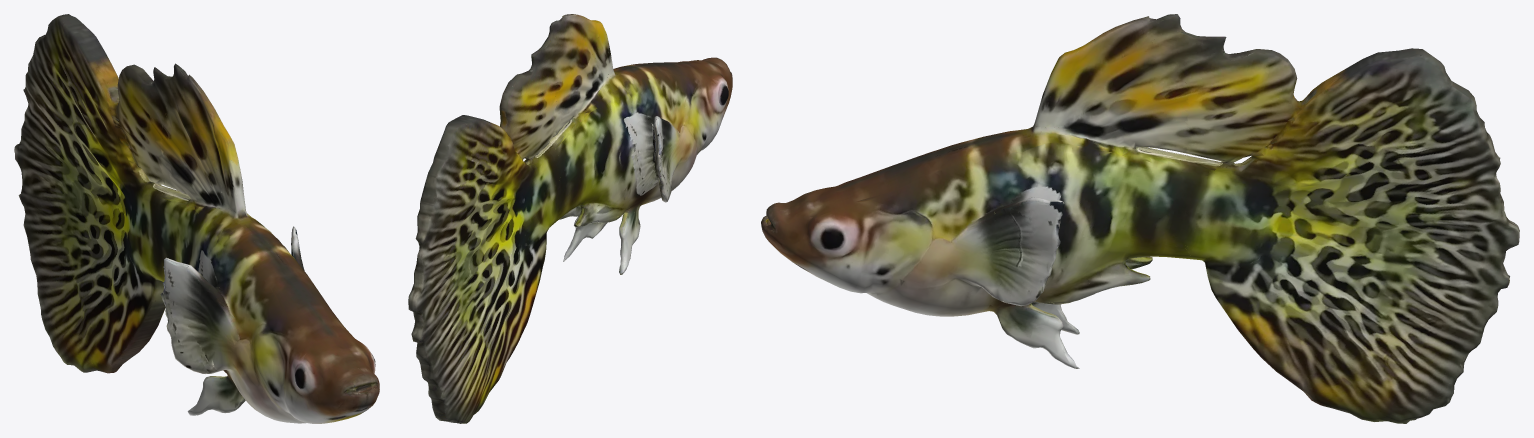
Rendered from strain-yellow_tiger.glb.
The picture shows the model from 3 angles, left to right: view 1: azimuth 30°, elevation 25°; view 2: azimuth 150°, elevation 25°; view 3: azimuth 270°, elevation 25°; orthographic projection. The views are drawn at different scales.
Visible parts, largest first — view 1: Mesh0.001; view 2: Mesh0.001; view 3: Mesh0.001.
Part boxes in pixels (x1,y1,x2,y2): Mesh0.001: (14,14,379,423); Mesh0.001: (408,14,732,423); Mesh0.001: (761,14,1519,423).
Size of the model in its own units: 0.00894 by 0.0231 by 0.0391.
Materials: 2 (2 with a texture image).
